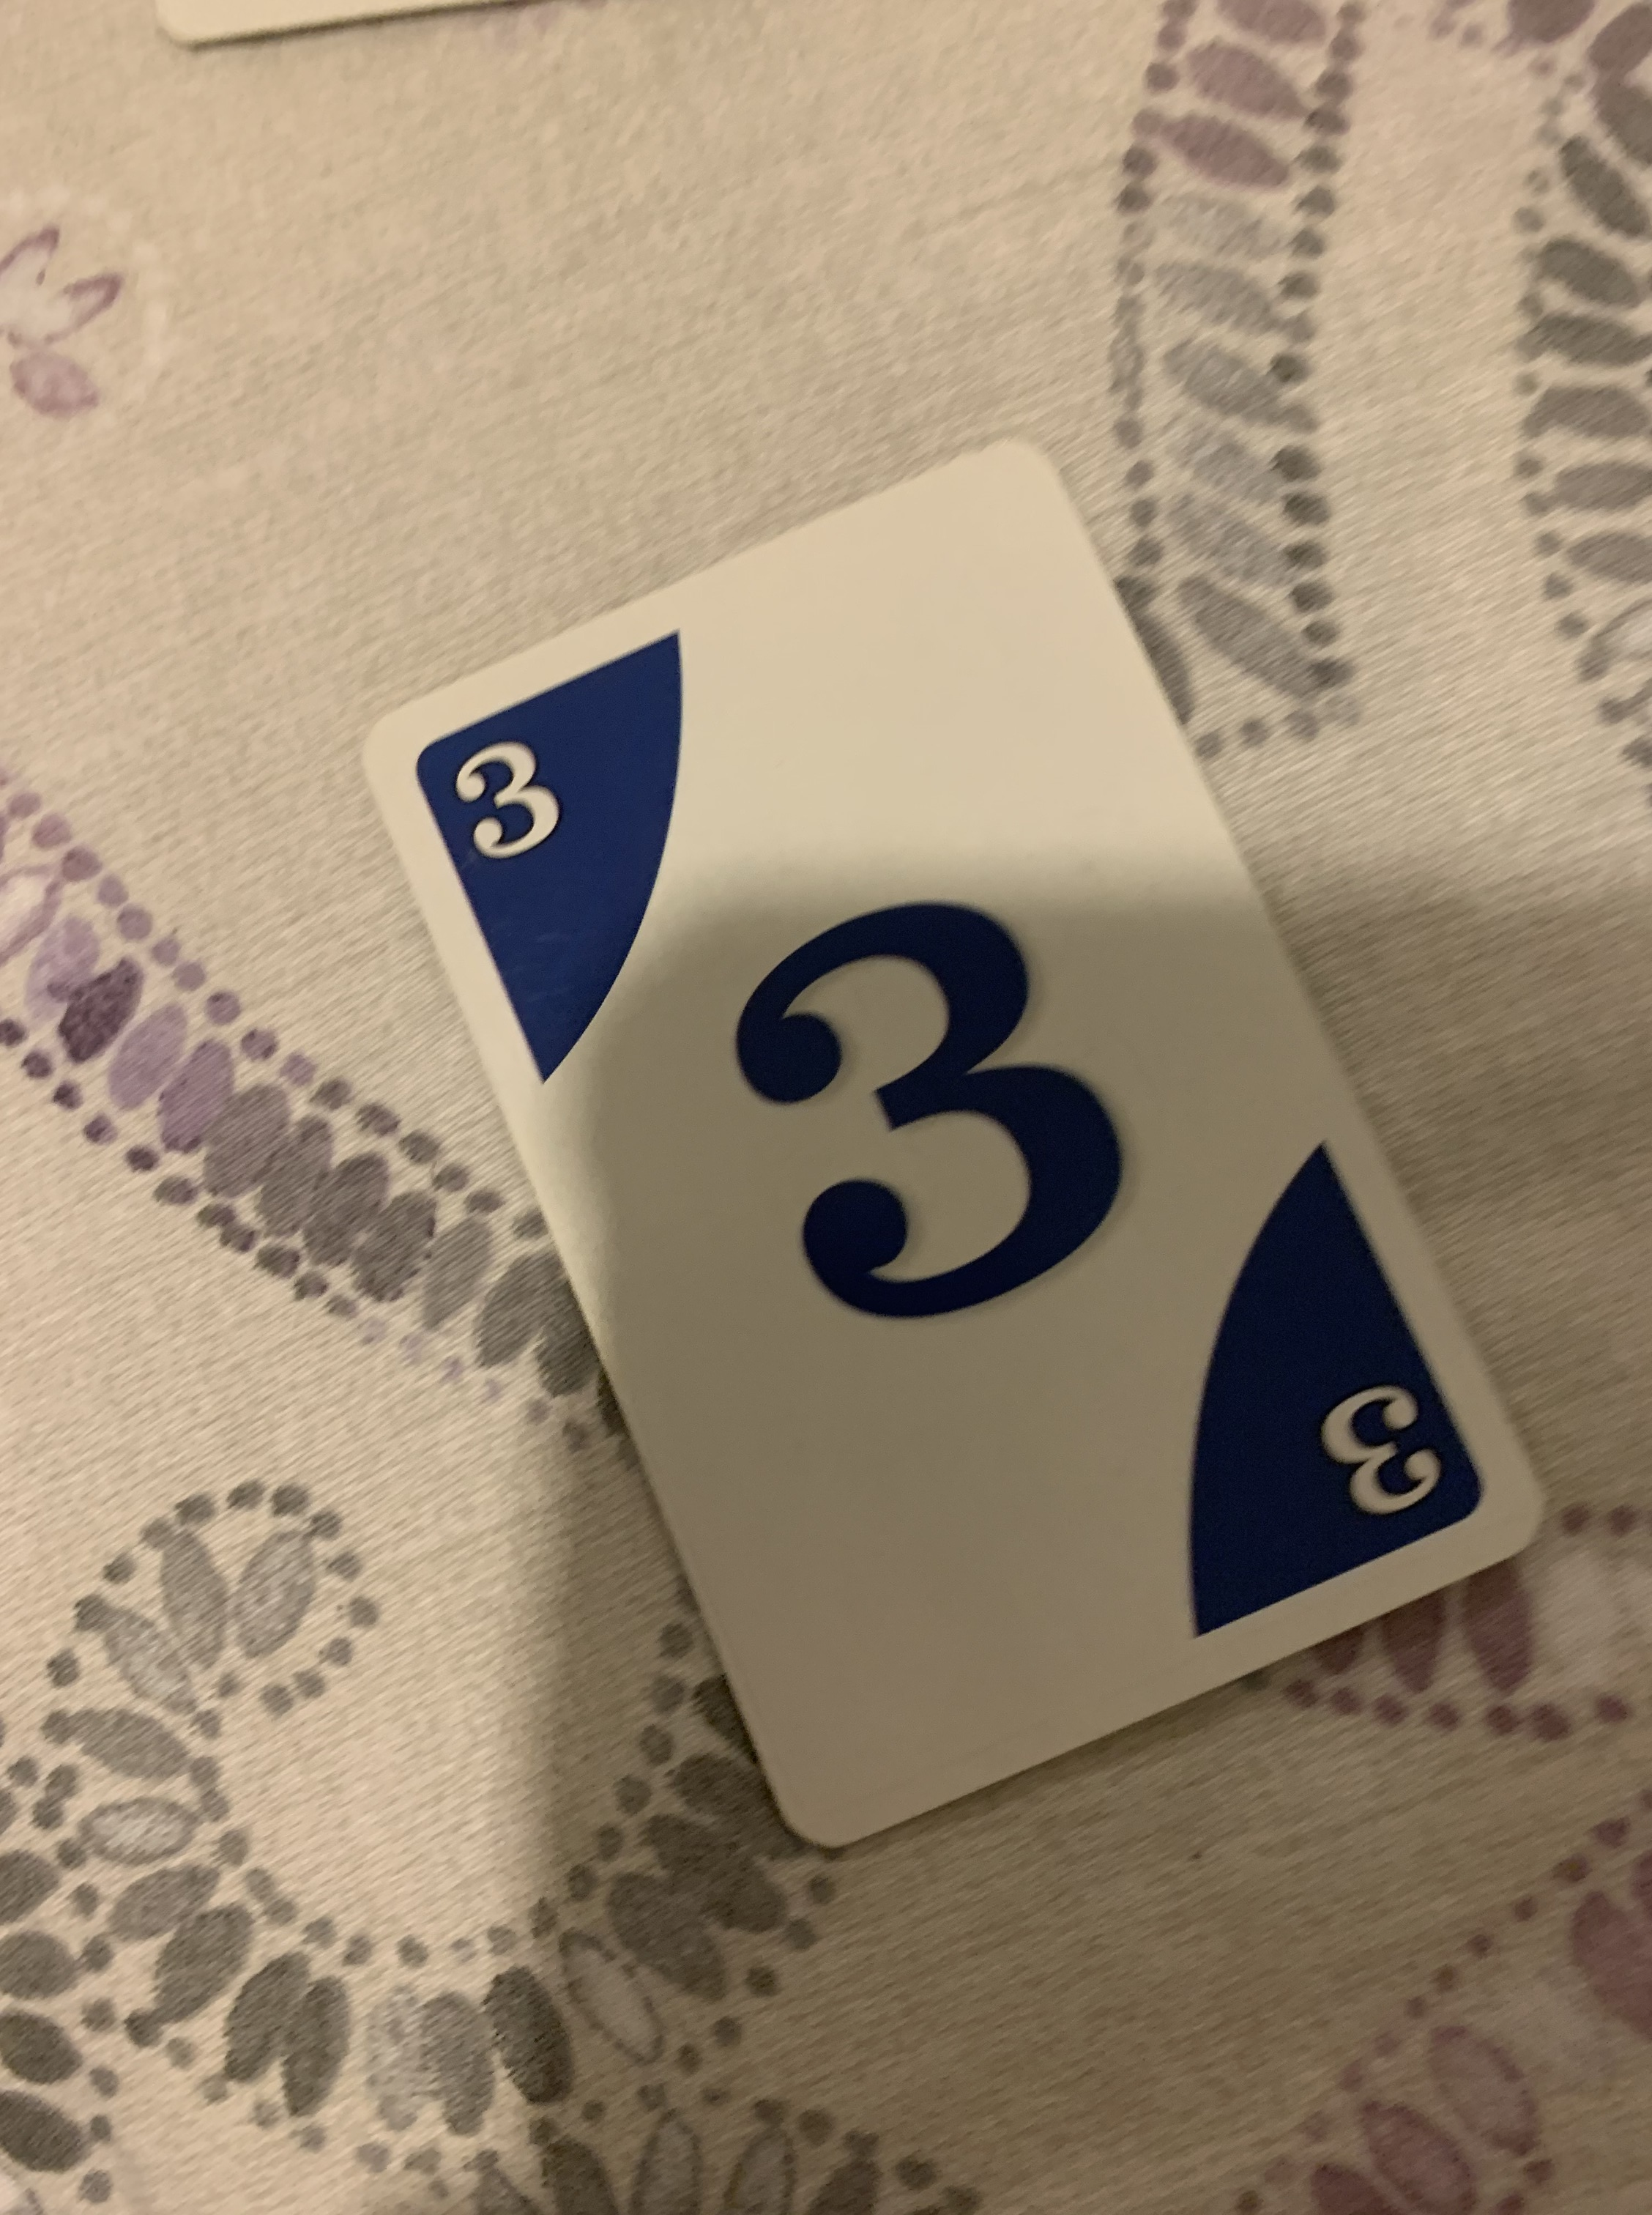three: (342, 434, 1555, 1850)
